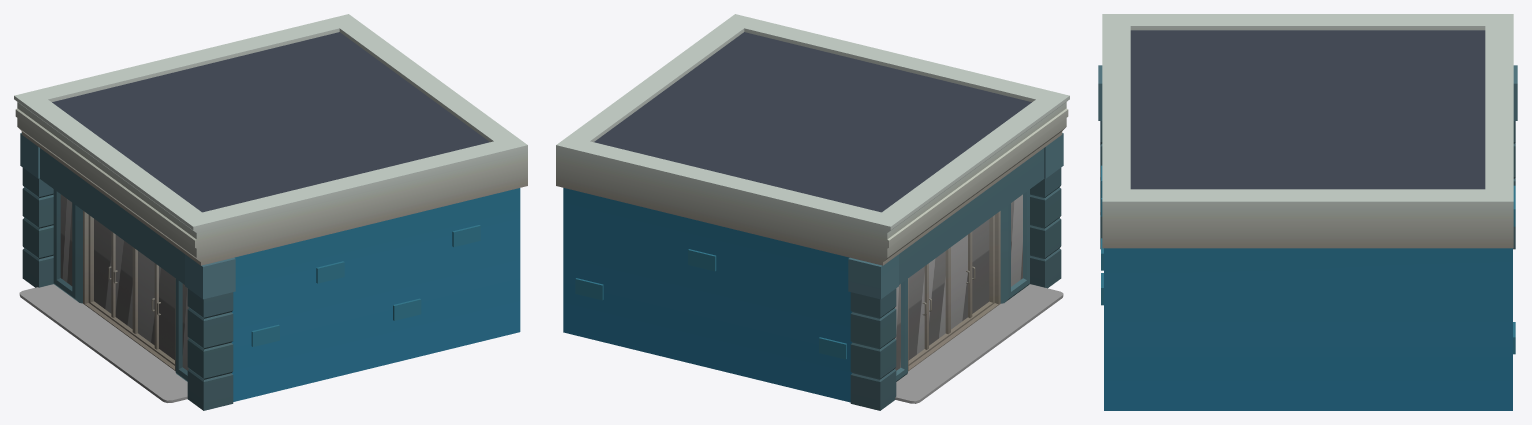
Rendered from Building_21_5_J.fbx.
The picture shows the model from 3 angles, left to right: view 1: azimuth 30°, elevation 25°; view 2: azimuth 150°, elevation 25°; view 3: azimuth 270°, elevation 25°; orthographic projection. The views are drawn at different scales.
Visible parts, largest first — view 1: Building_21_5_J; view 2: Building_21_5_J; view 3: Building_21_5_J.
Boxes of the visible parts, x1=… form: Building_21_5_J: x1=14, y1=14, x2=527, y2=410; Building_21_5_J: x1=556, y1=14, x2=1069, y2=410; Building_21_5_J: x1=1098, y1=14, x2=1517, y2=410.
Bounding box in the file's own units: 779 × 400 × 713.
